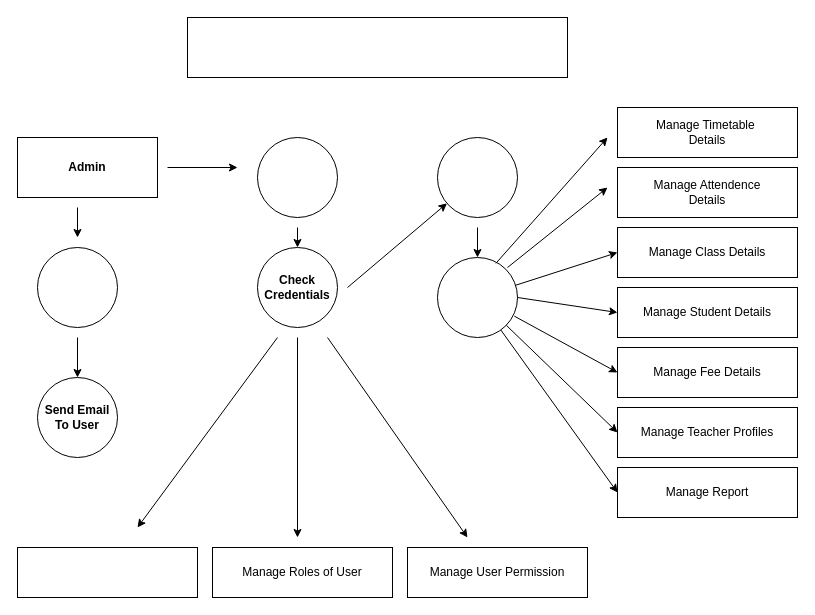
Image size: 815x615. Some labels were removed from this diagram. The shapes that lost their labels are listed below. From the top down, each one's box as (x1, y1, x2, y2) in pixels, then its label:
(186, 16, 568, 78): Student Information System
(256, 136, 338, 218): Login to System
(436, 136, 518, 218): Check Roles of Access
(36, 246, 118, 328): Forgot Password
(436, 256, 518, 338): Manage Modules
(16, 546, 198, 598): Manage System Admins
